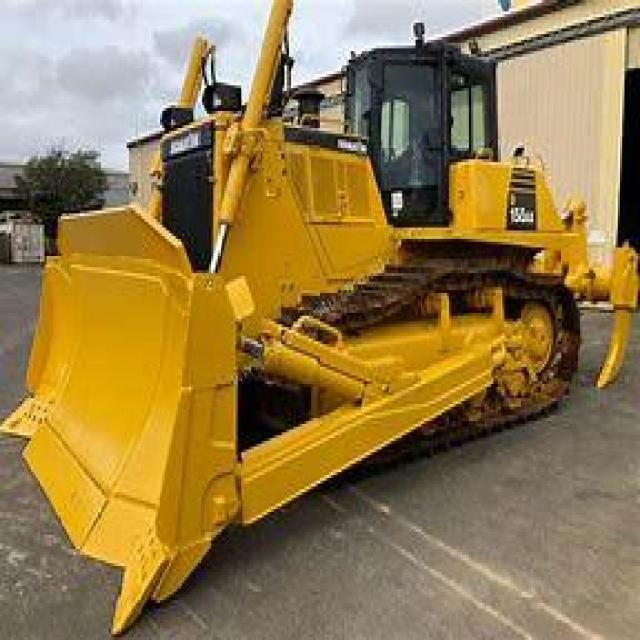Bulldozer: (11, 0, 629, 629)
